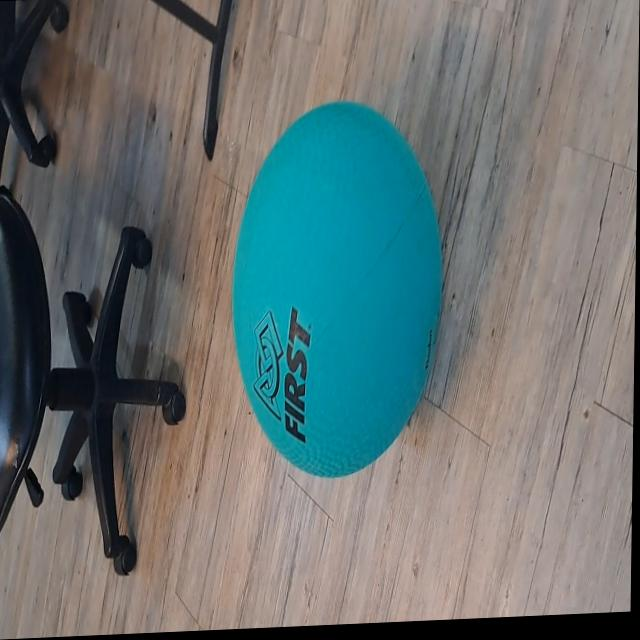ALGAE: (227, 94, 447, 485)
